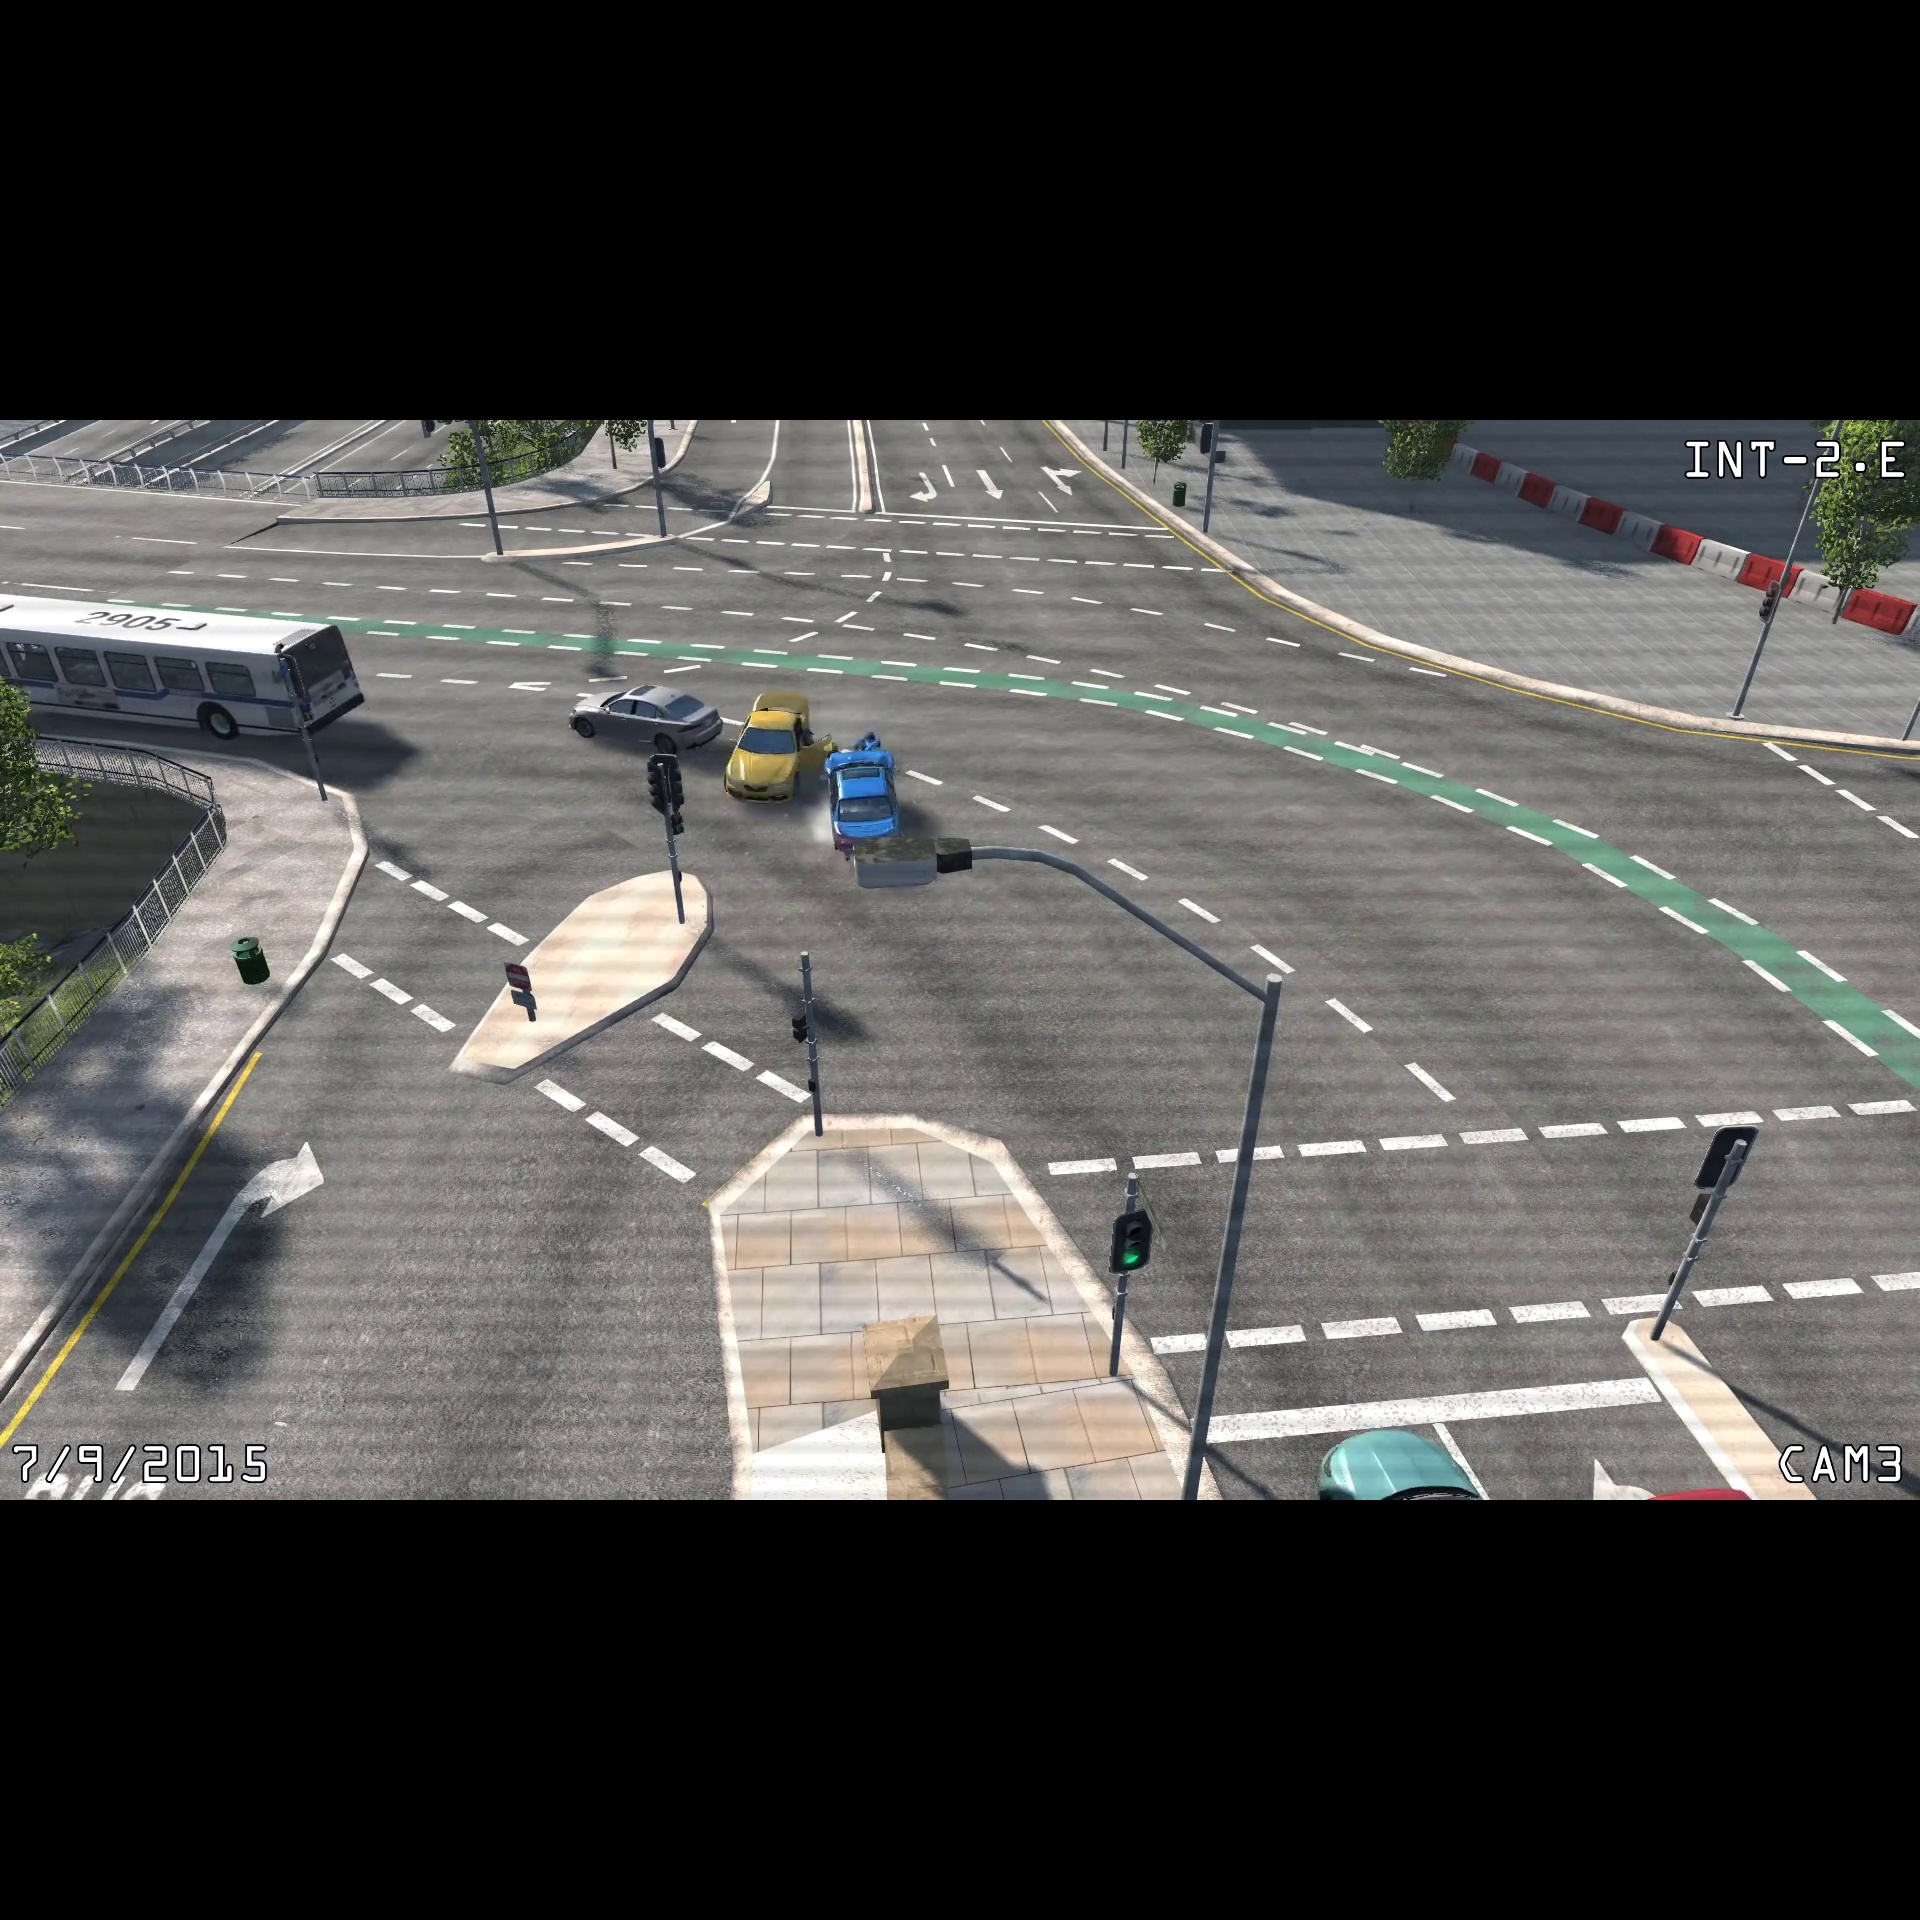vehicle: (2, 587, 375, 758), (721, 680, 823, 811), (563, 679, 723, 758), (823, 733, 905, 860)
